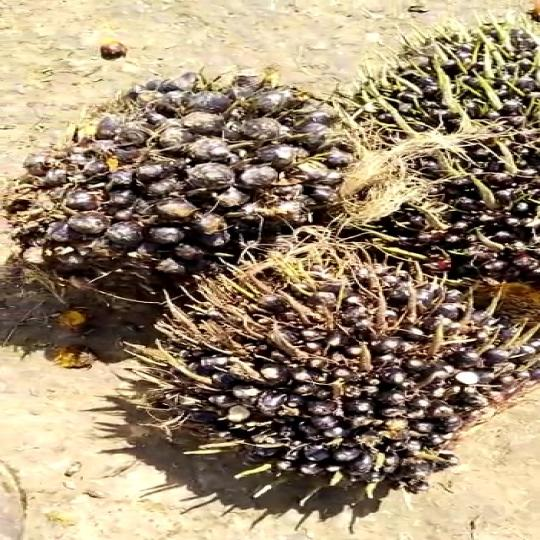mentah: (158, 244, 504, 495), (13, 58, 330, 288), (344, 36, 540, 282)
